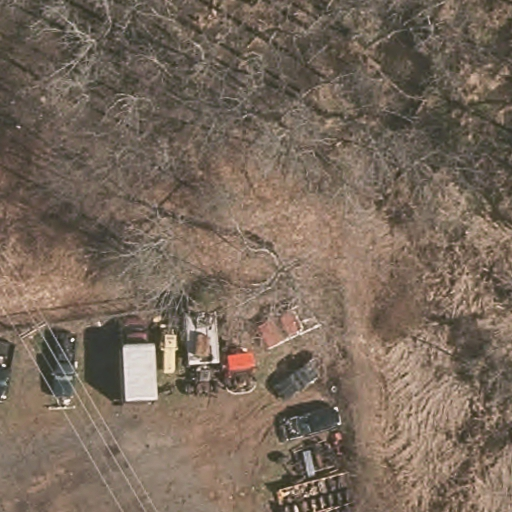DT: (14, 315, 49, 348)
